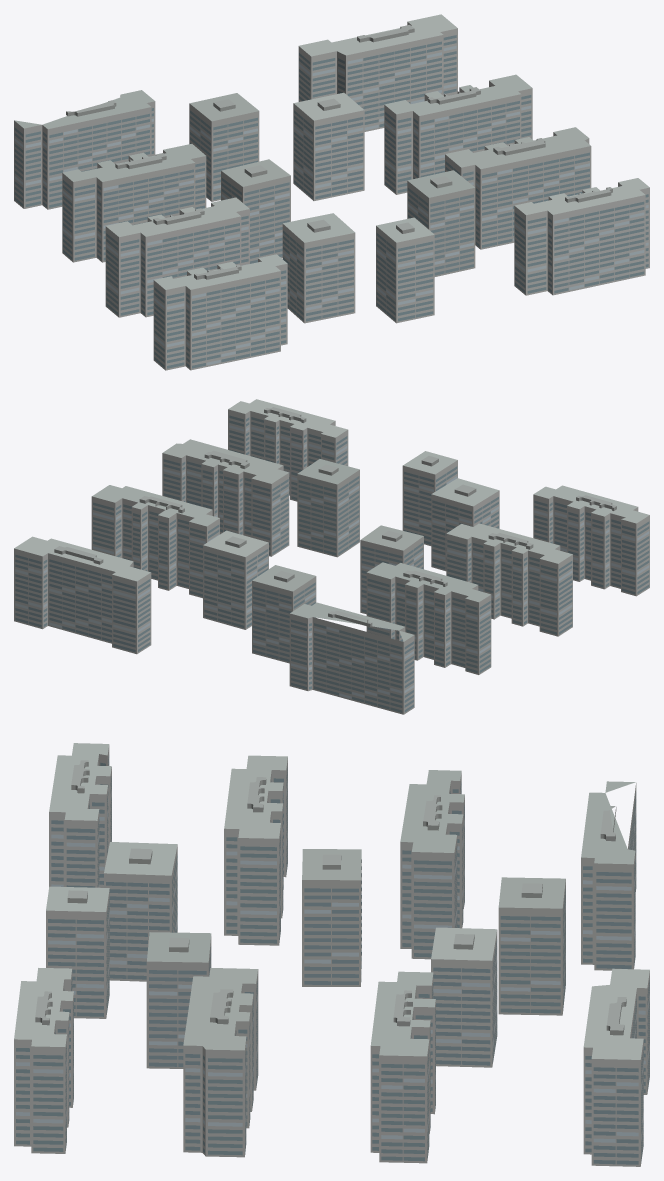
The model's file is apt-a13482706.glb.
3 views of the same model, one above another, from view 1: azimuth 30°, elevation 25°; view 2: azimuth 150°, elevation 25°; view 3: azimuth 270°, elevation 25° (orthographic). The views are drawn at different scales.
Visible parts, largest first — view 1: apt-a13482706; view 2: apt-a13482706; view 3: apt-a13482706.
Part boxes in pixels (x1,y1,x2,y2): apt-a13482706: (14,14,649,370); apt-a13482706: (14,399,649,714); apt-a13482706: (14,743,649,1166).
Size of the model in its own units: 291 by 47.81 by 247.
